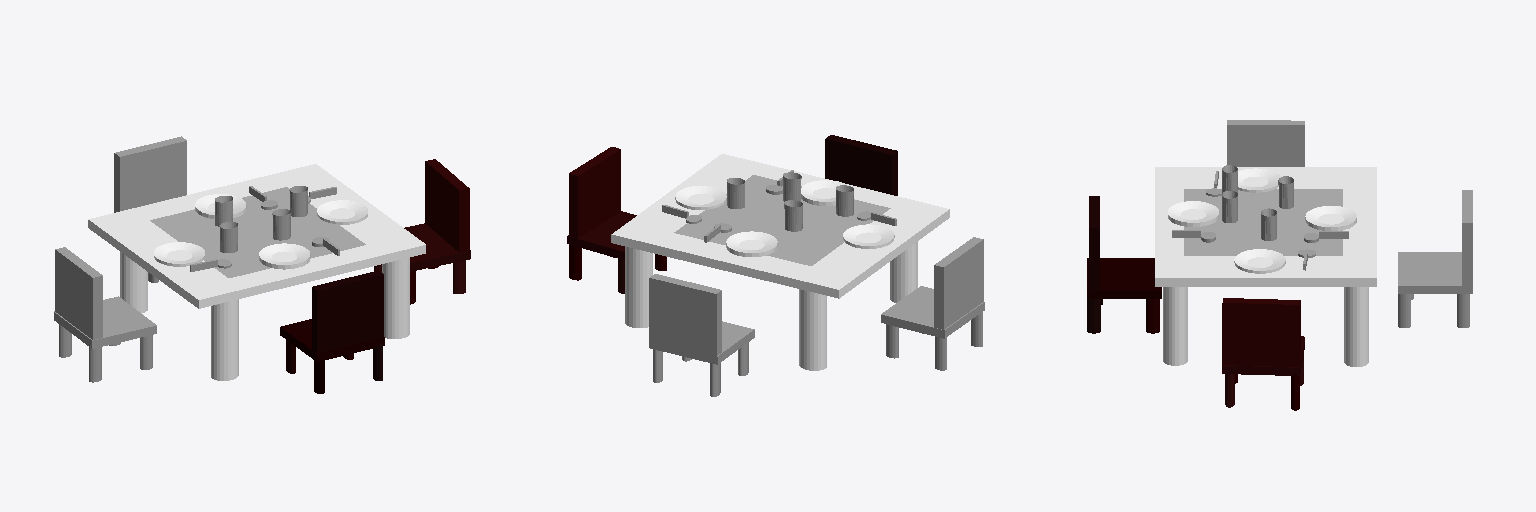
The model's file is table.obj.
3 views of the same model, side by side, from view 1: azimuth 30°, elevation 25°; view 2: azimuth 150°, elevation 25°; view 3: azimuth 270°, elevation 25° (orthographic).
Visible parts, largest first — view 1: Box, Plane, Box4, Box2, Box8, Box6, Box7, Cylinder1, Cylinder3, Box5, Box3, Cylinder (+7 smaller); view 2: Box, Plane, Box2, Box6, Box8, Box4, Box7, Cylinder, Cylinder2, Box5, Cylinder1, Assiete_3.001 (+7 smaller); view 3: Box, Plane, Box6, Box8, Box1, Box3, Cylinder2, Cylinder3, Assiete_1, Assiete_3.001, Box2, Box4 (+3 smaller).
Part boxes in pixels (x1,y1,x2,y2): Box: (88,164,425,308); Plane: (150,187,365,277); Box4: (312,270,383,352); Box2: (114,136,186,212); Box8: (55,247,102,339); Box6: (425,159,469,252); Box7: (54,296,156,348); Cylinder1: (211,299,238,380); Cylinder3: (382,258,409,338); Box5: (404,223,470,271); Box3: (280,319,384,361); Cylinder: (120,252,147,313); Box: (611,154,949,298); Plane: (674,175,890,265); Box2: (649,274,721,361); Box6: (569,147,620,237); Box8: (934,237,983,329); Box4: (825,135,897,195); Box7: (881,286,984,338); Cylinder: (799,289,826,370); Cylinder2: (625,247,652,327); Box5: (567,211,636,259); Cylinder1: (890,241,917,302); Assiete_3.001: (726,231,777,256); Box: (1155,167,1376,286); Plane: (1184,189,1342,255); Box6: (1222,298,1300,366); Box8: (1227,120,1304,166); Box1: (1398,252,1472,293); Box3: (1087,258,1161,298); Cylinder2: (1344,287,1368,366); Cylinder3: (1163,287,1187,365); Assiete_1: (1168,201,1218,226); Assiete_3.001: (1305,206,1356,230); Box2: (1462,190,1472,285); Box4: (1089,196,1099,290).
Size of the model in its own units: 11.09 by 3.42 by 9.72.